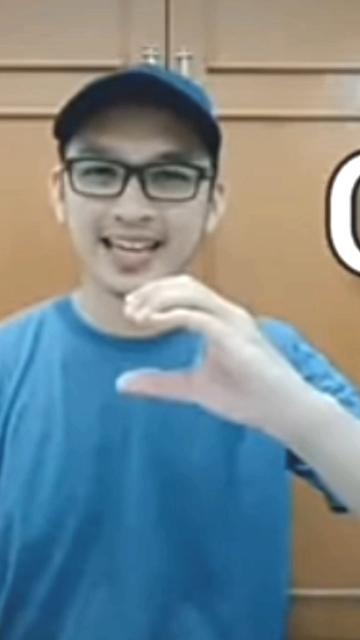C: (114, 272, 298, 436)
